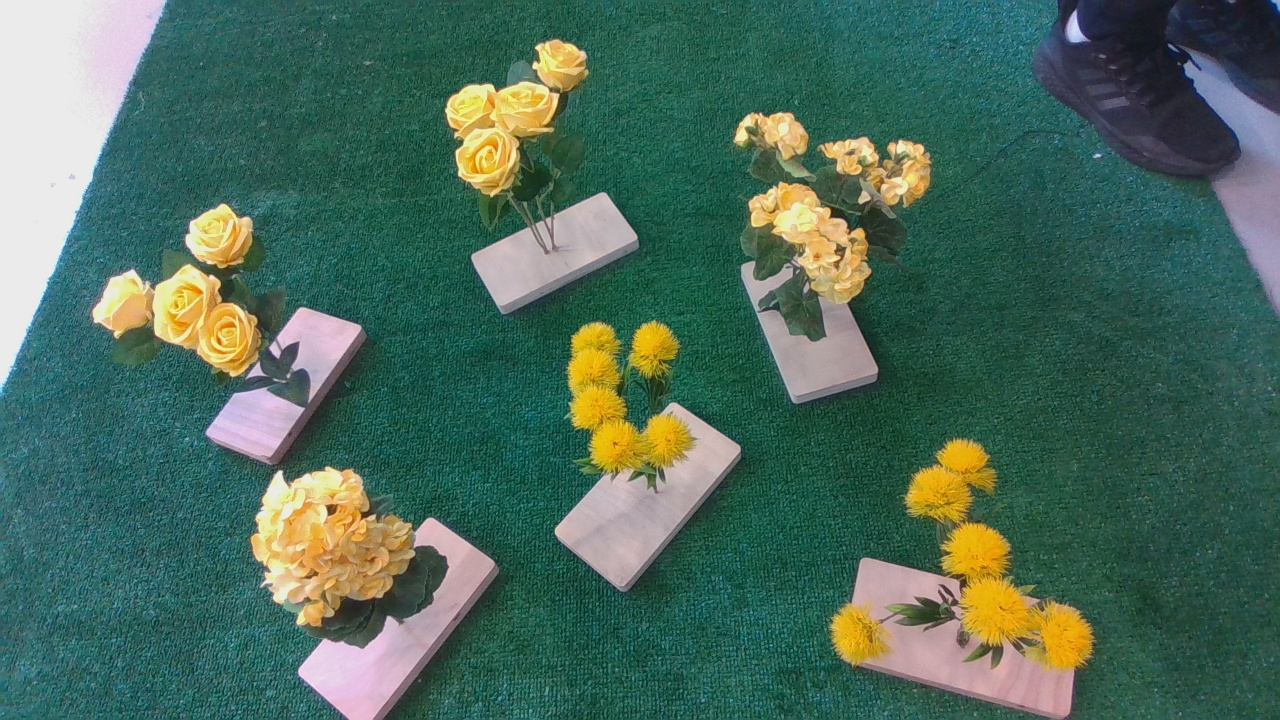dandelion: (827, 438, 1108, 680), (562, 321, 709, 485)
geranium: (723, 108, 943, 313), (242, 470, 455, 654)
rose: (84, 203, 327, 407), (442, 39, 606, 228)
